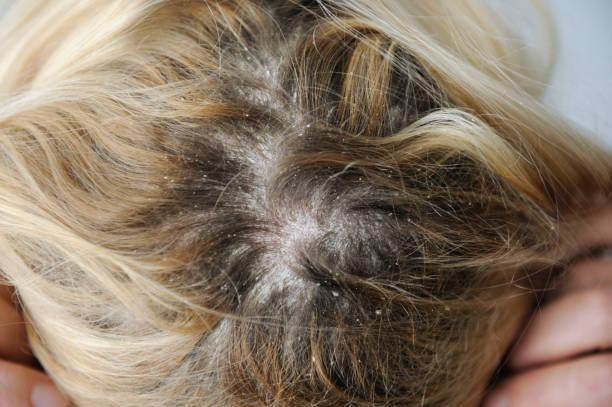dandruff: (231, 39, 281, 87), (158, 166, 181, 192), (319, 281, 345, 304), (298, 117, 317, 136), (216, 278, 231, 302), (221, 229, 241, 244), (196, 165, 211, 185), (371, 303, 385, 324), (240, 108, 258, 124), (322, 356, 338, 371), (385, 207, 398, 223), (384, 169, 394, 188), (390, 256, 402, 270), (416, 161, 426, 177), (441, 305, 455, 315), (465, 198, 476, 208)
